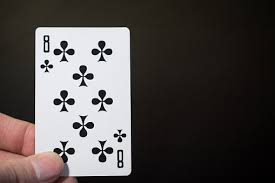eigth of clubs: (35, 28, 130, 176)
